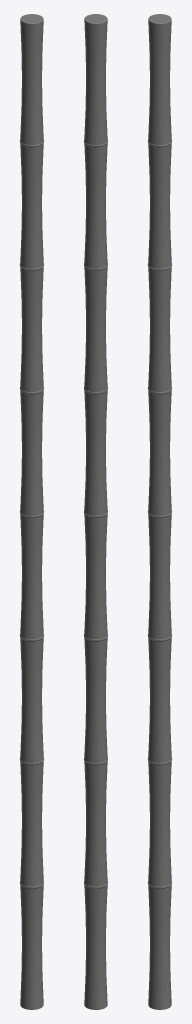
File: Bamboo.obj
3 views of the same model, side by side, from view 1: azimuth 90°, elevation 25°; view 2: azimuth 210°, elevation 25°; view 3: azimuth 270°, elevation 25° (orthographic).
Visible parts, largest first — view 1: pCylinder8; view 2: pCylinder8; view 3: pCylinder8.
Boxes of the visible parts, x1,y1,x2,y2 form: pCylinder8: [20, 14, 43, 1009]; pCylinder8: [84, 14, 107, 1009]; pCylinder8: [148, 14, 171, 1009].
Size of the model in its own units: 7.68 by 343 by 7.68.
Materials: 1 (1 with a texture image).
